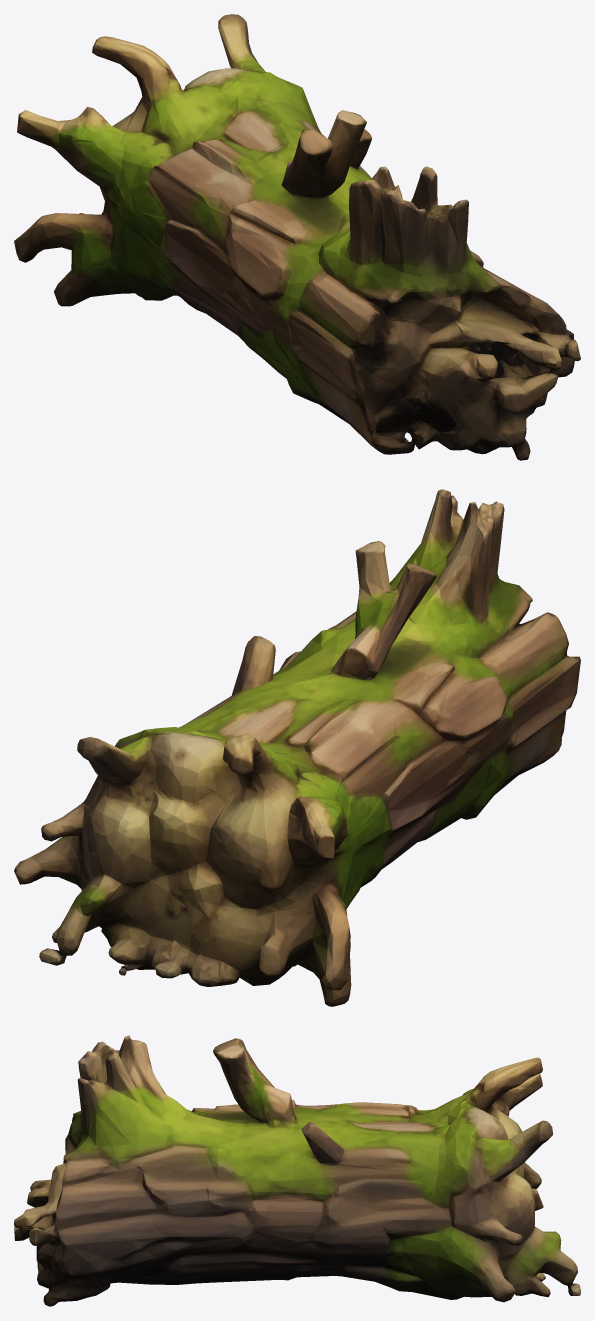
The model's file is log_barrier.glb.
3 renders of one model, top to bottom at view 1: azimuth 30°, elevation 25°; view 2: azimuth 150°, elevation 25°; view 3: azimuth 270°, elevation 25°, orthographic. The views are drawn at different scales.
Parts seen in each view (by area): view 1: world; view 2: world; view 3: world.
Boxes of the visible parts, x1,y1,x2,y2 form: world: (14, 14, 580, 460); world: (14, 489, 580, 1006); world: (14, 1035, 580, 1306).
Bounding box in the file's own units: 0.5346 × 0.4534 × 0.9989.
Materials: 1 (1 with a texture image).
